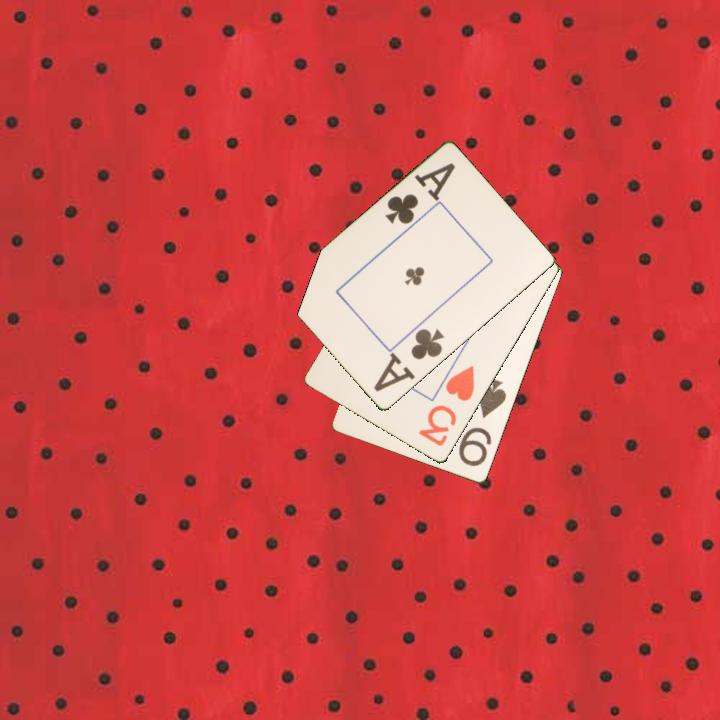3h: (415, 362, 478, 450)
9s: (455, 375, 510, 470)
Ac: (369, 325, 447, 395), (381, 159, 458, 228)
